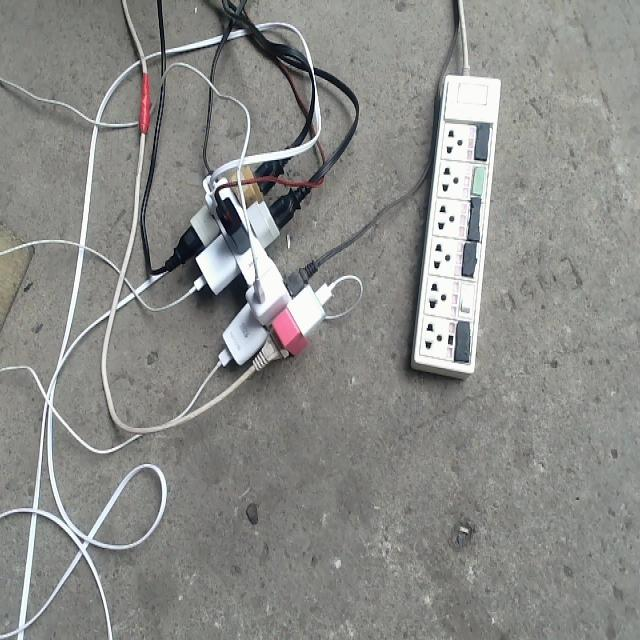-: (178, 153, 331, 370)
